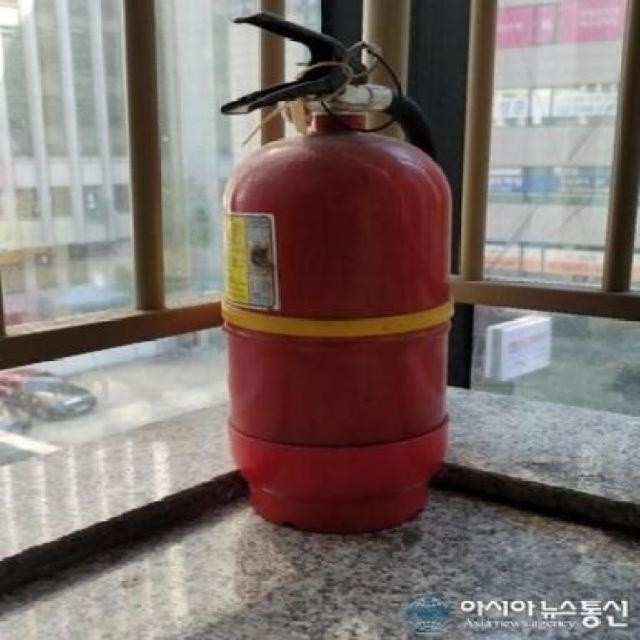fire extinguisher: (219, 11, 453, 534)
